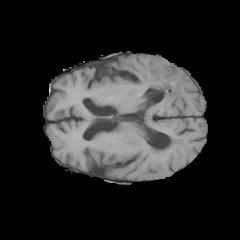glioma: (140, 61, 188, 159)
